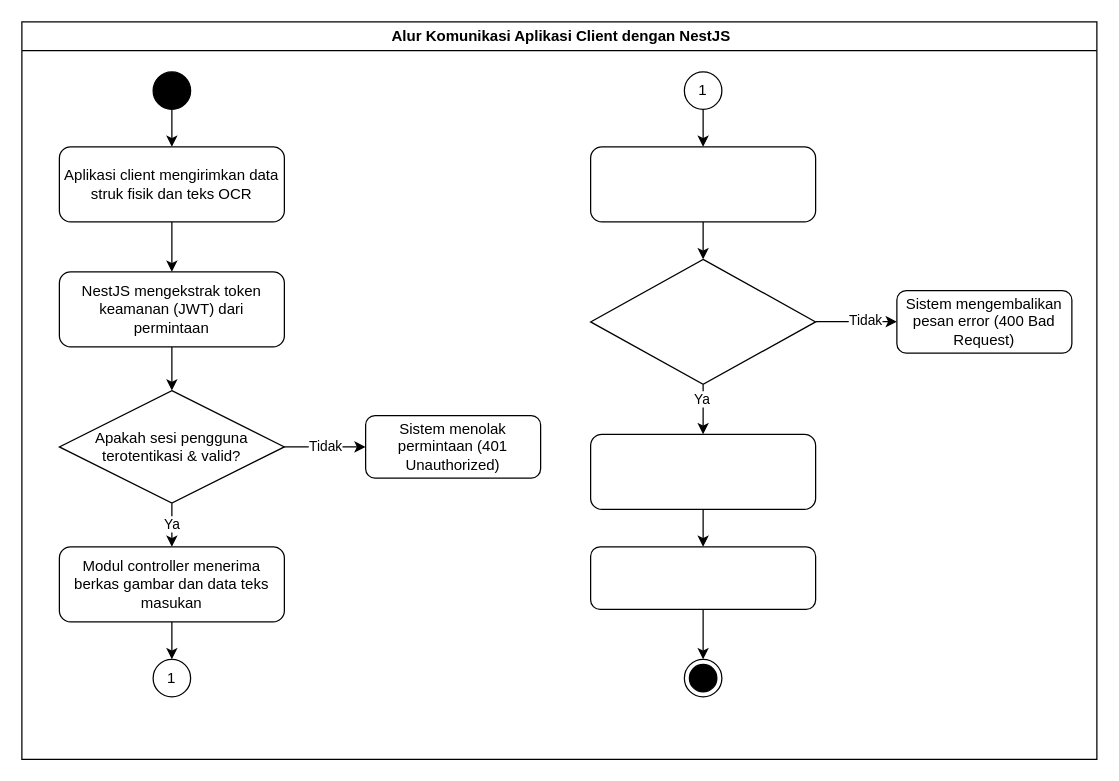
This 1119x781 diagram has some shape labels left out. Each missing label, with the box of its shape:
Apakah format masukan sesuai spesifikasi DTO?: (589, 258, 816, 384)
Modul controller meneruskan data yang sah ke modul service: (589, 433, 816, 509)
Sistem melakukan validasi kelengkapan dan format data (DTO): (589, 146, 816, 222)
Sistem mengirimkan respons sukses (JSON) kembali ke aplikasi client: (589, 546, 816, 609)
